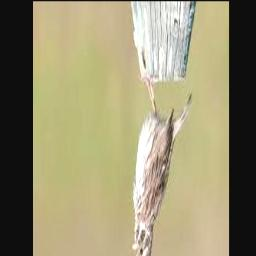Sparrow: (130, 80, 192, 256)
